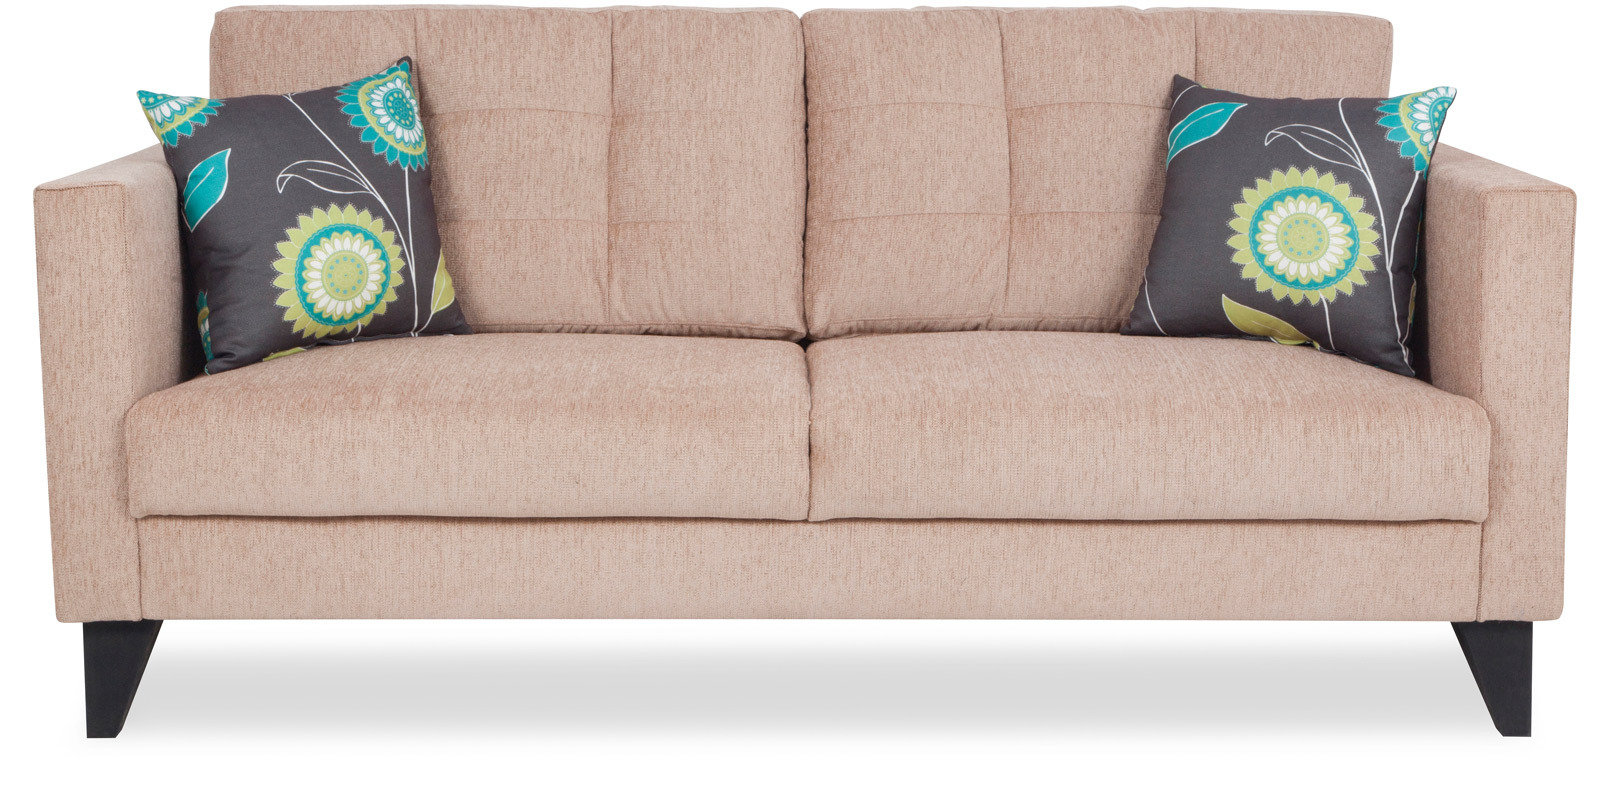Greenwich Three Seater Sofa in Beige Colour by Urban Living: (18, 1, 1581, 769)
